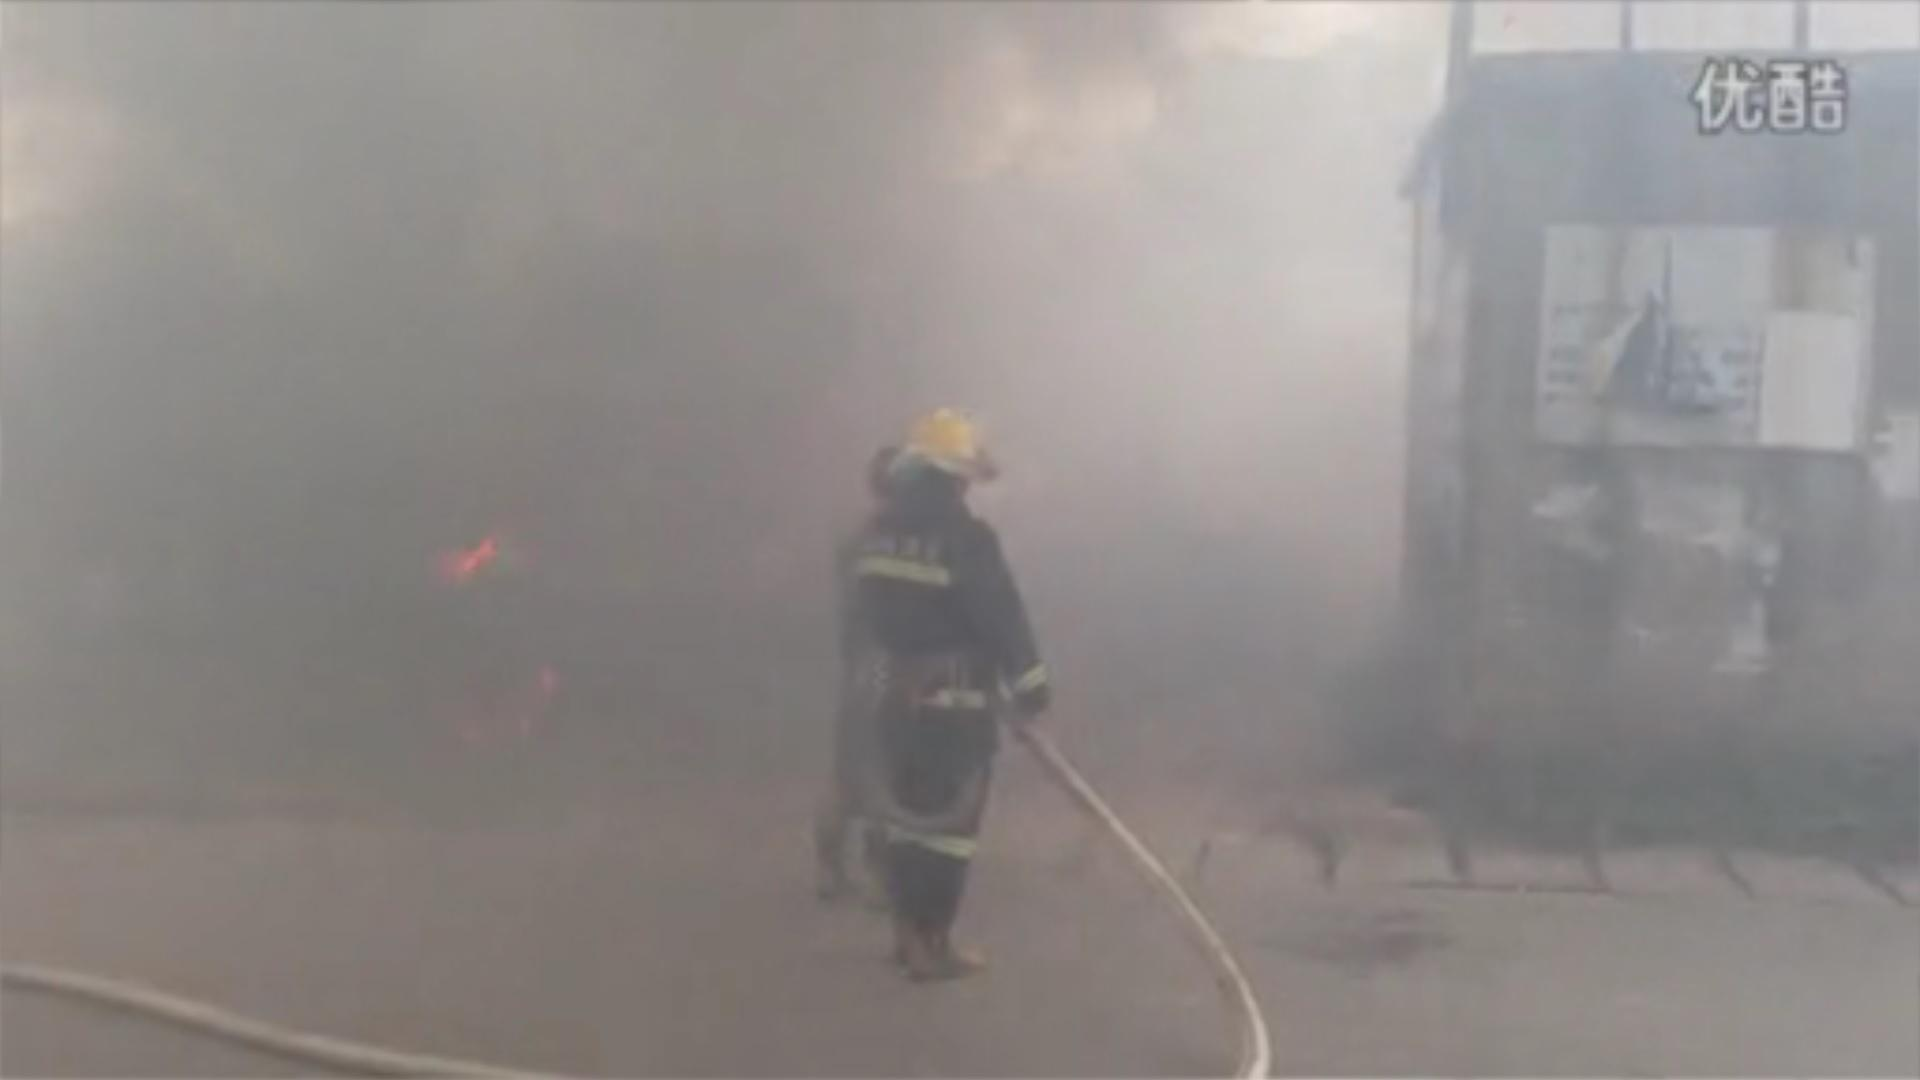fire: (442, 529, 502, 579)
